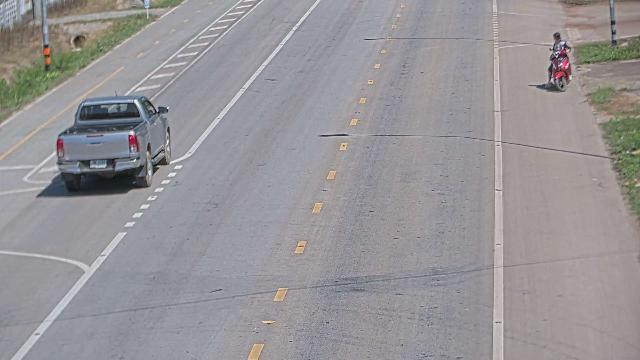motorcycle: (546, 41, 575, 92)
pickup-truck: (55, 92, 172, 192)
